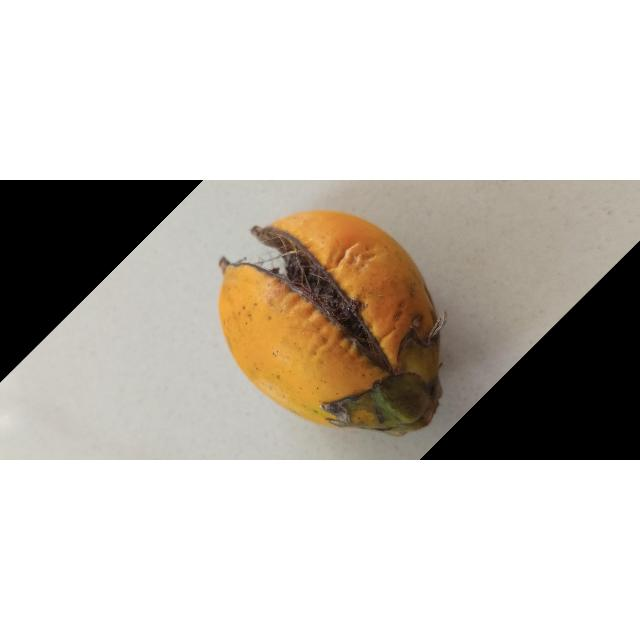damaged: (219, 211, 446, 436)
